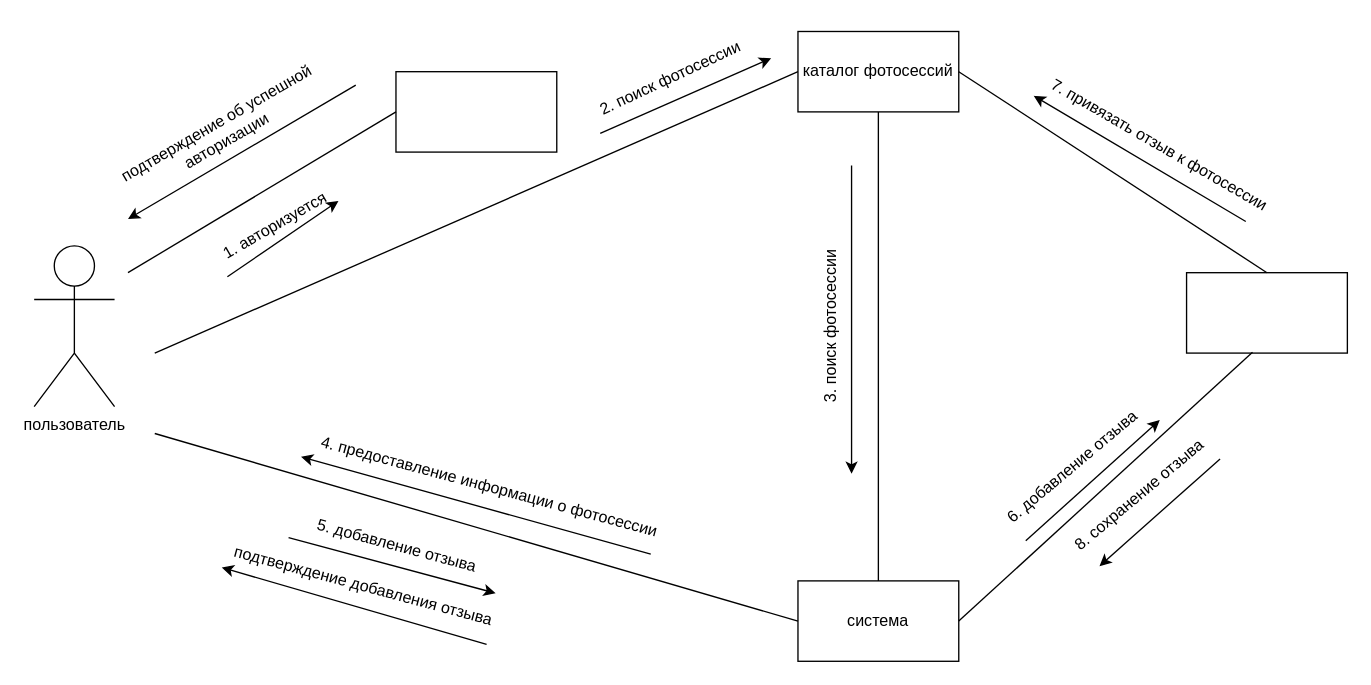
This 1371x685 diagram has some shape labels left out. Here are the shapes that lost their labels. From the top down, the centre of each, then its label:
the point at 476,111: авторизация
the point at 1266,312: отзыв
